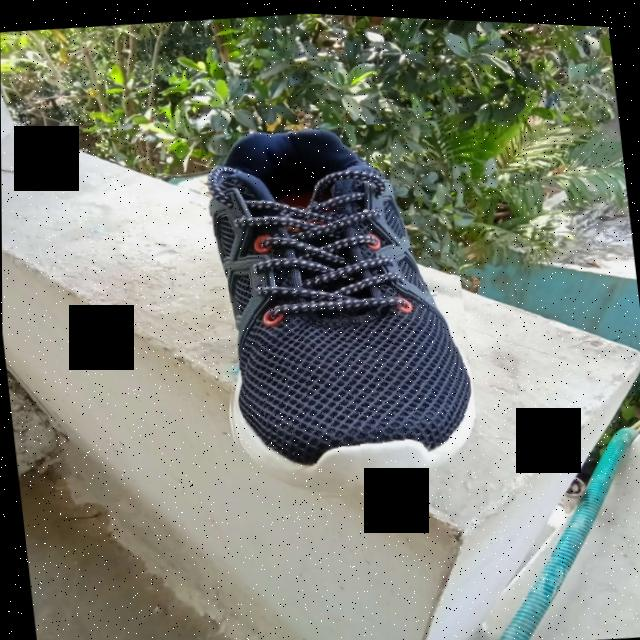shoe: (195, 107, 483, 511)
